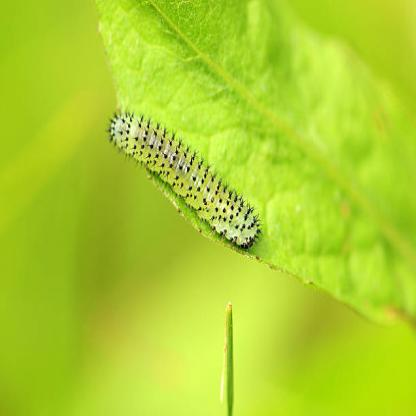sawfly: (107, 103, 265, 250)
